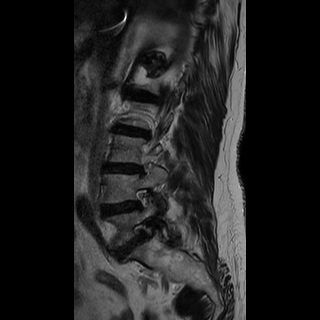RFS0: (128, 182, 154, 214)
